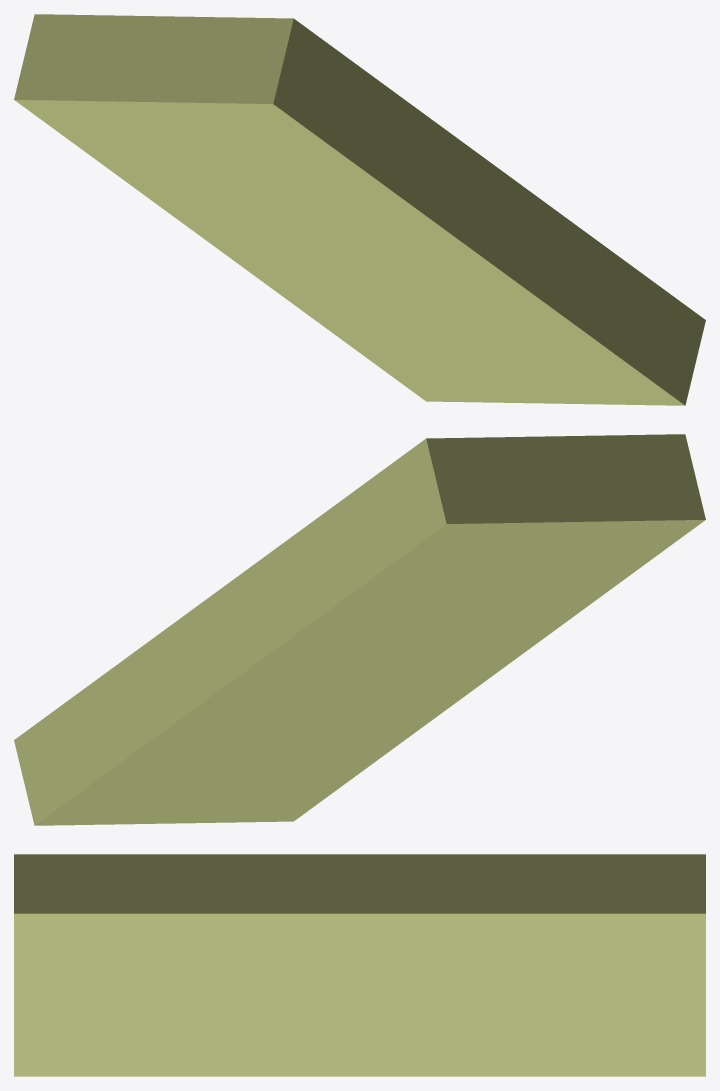
The picture shows the model from 3 angles, top to bottom: view 1: azimuth 30°, elevation 25°; view 2: azimuth 150°, elevation 25°; view 3: azimuth 270°, elevation 25°; orthographic projection. The views are drawn at different scales.
Visible parts, largest first — view 1: 0_1_1_3_3_1_1_3_3_0_2_0_3; view 2: 0_1_1_3_3_1_1_3_3_0_2_0_3; view 3: 0_1_1_3_3_1_1_3_3_0_2_0_3.
Part boxes in pixels (box(x1,y1,x2,y2)): 0_1_1_3_3_1_1_3_3_0_2_0_3: box(14, 14, 705, 405); 0_1_1_3_3_1_1_3_3_0_2_0_3: box(14, 434, 705, 825); 0_1_1_3_3_1_1_3_3_0_2_0_3: box(14, 854, 705, 1076).
Size of the model in its own units: 3.53 by 1.78 by 9.
